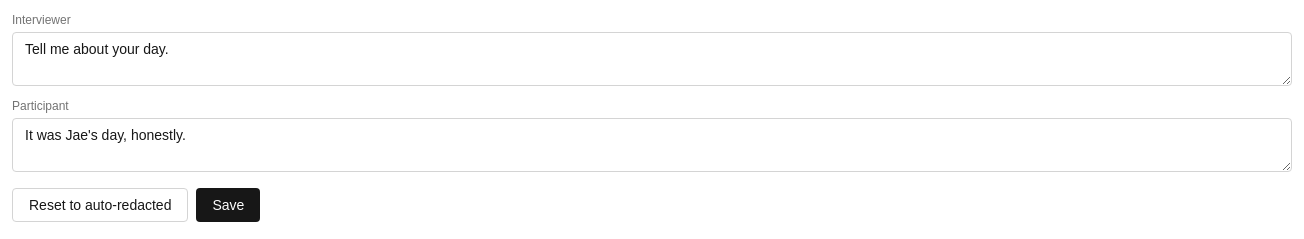
it: RedactedTranscriptEditor › resets to the auto-redacted text when 'Reset to auto-redacted' is clicked
This screenshot has width=1304, height=239.
Step 1. Click the button "Reset to auto-redacted" → click(100, 205), box [12,188,188,222]
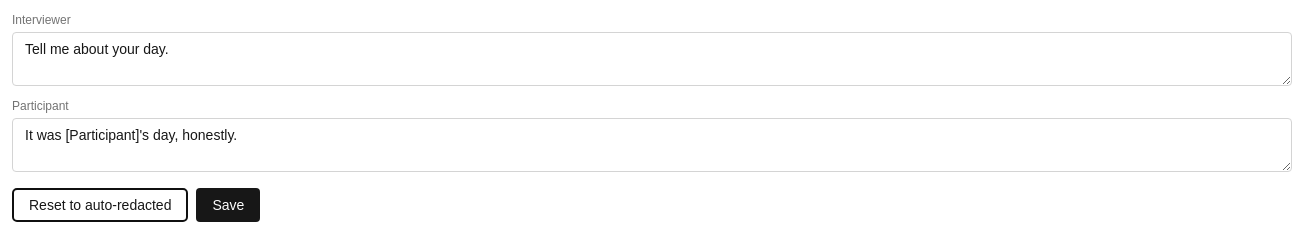
Check: the text box showing "It was [Participant]'s day, honestly." below "Participant" is shown, box [12,118,1292,172]
